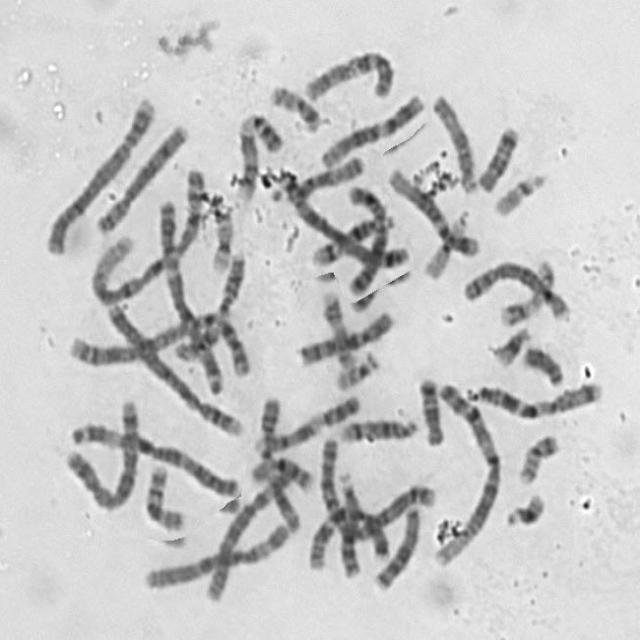A1: (90, 161, 210, 307), (429, 377, 505, 570)
A2: (274, 167, 410, 270), (316, 431, 394, 564)
A3: (152, 190, 228, 398), (67, 418, 246, 500)
B4: (100, 297, 244, 440), (42, 90, 158, 257)
B5: (61, 393, 143, 514), (344, 181, 391, 297)
C10: (293, 305, 396, 369), (299, 44, 398, 104)
C11: (167, 248, 249, 368), (205, 250, 249, 384)
C12: (383, 160, 483, 258), (316, 88, 426, 170)
C6: (200, 466, 305, 606), (138, 515, 294, 593)
C7: (306, 500, 395, 572), (468, 374, 606, 420)
C8: (91, 119, 189, 236), (458, 254, 572, 324)
C9: (250, 389, 364, 456), (232, 105, 286, 201)
D13: (370, 499, 422, 593), (334, 463, 363, 580)
D14: (312, 212, 399, 267), (334, 410, 421, 446)
D15: (430, 89, 480, 194), (283, 149, 367, 205)
E16: (141, 458, 187, 532), (245, 450, 317, 494)
E17: (498, 257, 556, 328), (319, 285, 359, 372)
E18: (473, 119, 522, 194), (415, 371, 447, 447)
F19: (419, 207, 472, 281), (207, 200, 235, 275)
F20: (266, 79, 323, 134), (514, 428, 562, 487)
G21: (489, 320, 533, 369), (500, 486, 548, 530)
G22: (489, 166, 548, 218), (332, 346, 382, 392)
X: (344, 181, 391, 297)
Y: (519, 340, 567, 388)
